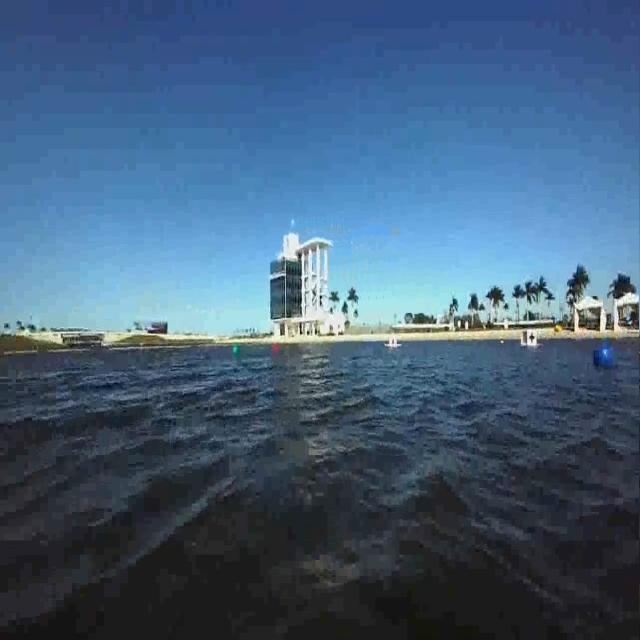blue-buoy: (591, 333, 624, 380)
